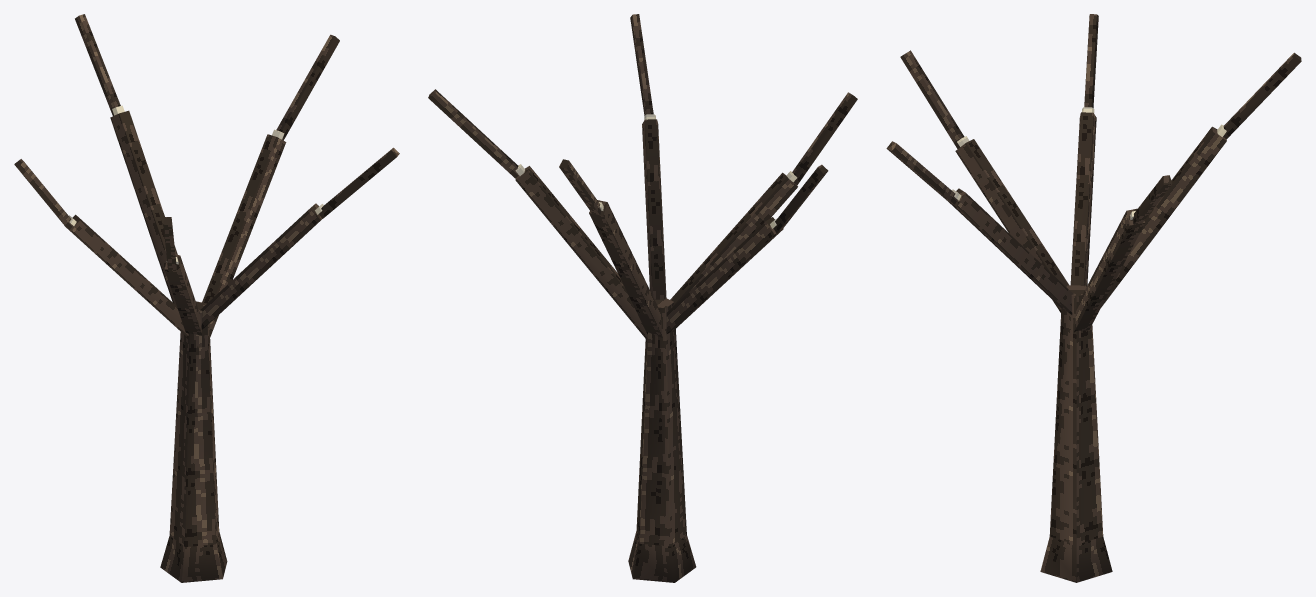
File: mnat.dead_tree__snowy.glb
The picture shows the model from 3 angles, left to right: view 1: azimuth 30°, elevation 25°; view 2: azimuth 150°, elevation 25°; view 3: azimuth 270°, elevation 25°; orthographic projection. The views are drawn at different scales.
Visible parts, largest first — view 1: kit_trunk; view 2: kit_trunk; view 3: kit_trunk.
Part boxes in pixels (box(x1,y1,x2,y2)): kit_trunk: box(14, 14, 399, 582); kit_trunk: box(428, 14, 857, 582); kit_trunk: box(886, 14, 1301, 582).
Bounding box in the file's own units: 4.64 × 5.96 × 4.42.
Materials: 2 (2 with a texture image).
